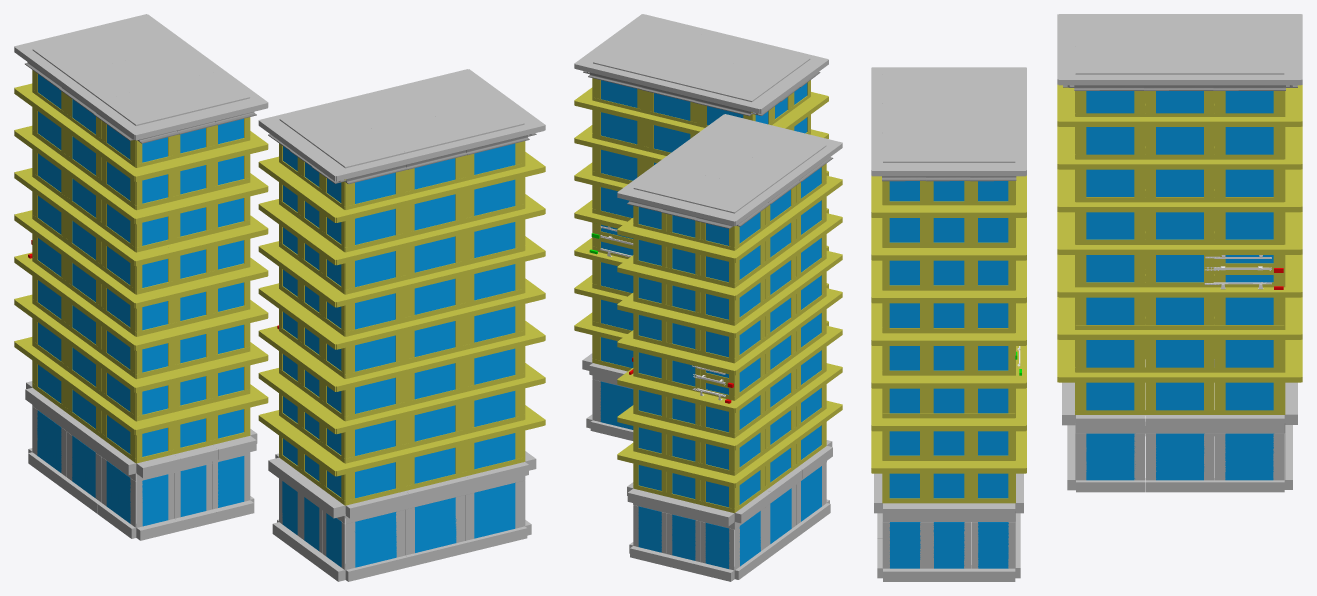
File: BuildingController 1.fbx
3 renders of one model, left to right at view 1: azimuth 30°, elevation 25°; view 2: azimuth 150°, elevation 25°; view 3: azimuth 270°, elevation 25°, orthographic. The views are drawn at different scales.
Parts seen in each view (by area): view 1: Roof_18, Roof_15, Roof_19, Roof_20, Roof, Roof_17, Roof_16, Roof_21, Roof_23, Roof_13, Roof_14, Roof_22 (+84 smaller); view 2: Roof_21, Roof_17, Roof_22, Roof_23, Roof_14, Roof_15, Roof_18, Roof_16, Roof, Roof_13, Roof_19, Roof_20 (+141 smaller); view 3: Cube_007__1_, Cube_007__1__2, Cube_007__1__1, Roof, Roof_13, Roof_14, Roof_23, Roof_15, Roof_20, Roof_16, Roof_17, Roof_21 (+115 smaller).
Boxes of the visible parts, box(x1,y1,x2,y2) form: Roof_18: box(312, 128, 404, 168); Roof_15: box(101, 86, 192, 125); Roof_19: box(372, 114, 464, 153); Roof_20: box(432, 99, 524, 138); Roof: box(159, 72, 249, 112); Roof_17: box(32, 35, 123, 75); Roof_16: box(67, 60, 158, 100); Roof_21: box(279, 104, 371, 143); Roof_23: box(400, 75, 491, 113); Roof_13: box(124, 46, 214, 85); Roof_14: box(90, 21, 180, 60); Roof_22: box(340, 90, 431, 128); Roof_21: box(699, 67, 780, 101); Roof_17: box(684, 178, 765, 213); Roof_22: box(646, 54, 727, 89); Roof_23: box(593, 41, 674, 76); Roof_14: box(633, 165, 714, 200); Roof_15: box(746, 133, 826, 168); Roof_18: box(728, 45, 810, 80); Roof_16: box(715, 155, 795, 190); Roof: box(695, 120, 775, 155); Roof_13: box(664, 143, 744, 177); Roof_19: box(675, 32, 756, 66); Roof_20: box(622, 19, 703, 53); Cube_007__1_: box(1086, 433, 1135, 480); Cube_007__1__2: box(1225, 433, 1273, 480); Cube_007__1__1: box(1156, 433, 1204, 480); Roof: box(1075, 45, 1145, 74); Roof_13: box(1145, 45, 1214, 74); Roof_14: box(1215, 45, 1284, 74); Roof_23: box(949, 132, 1015, 162); Roof_15: box(1075, 17, 1145, 45); Roof_20: box(883, 132, 948, 162); Roof_16: box(1145, 17, 1214, 45); Roof_17: box(1215, 17, 1284, 45); Roof_21: box(949, 73, 1015, 102).
Bounding box in the file's own units: 1423 × 1762 × 1654.
